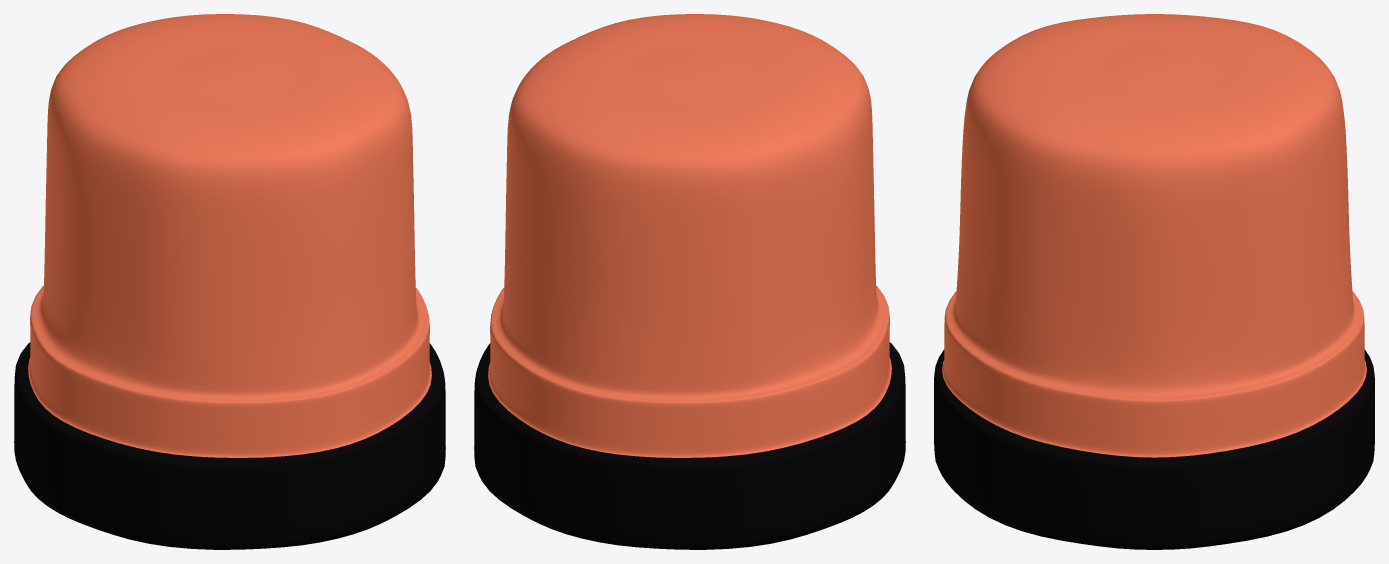
The model's file is alarm_red_low.glb.
3 views of the same model, side by side, from view 1: azimuth 30°, elevation 25°; view 2: azimuth 150°, elevation 25°; view 3: azimuth 270°, elevation 25° (orthographic).
Visible parts, largest first — view 1: Sphere; view 2: Sphere; view 3: Sphere.
Part boxes in pixels (left/top/right/bottom): Sphere: left=14, top=14, right=445, bottom=549; Sphere: left=474, top=14, right=905, bottom=549; Sphere: left=934, top=14, right=1374, bottom=549.
Size of the model in its own units: 2.01 by 2.03 by 2.03.
